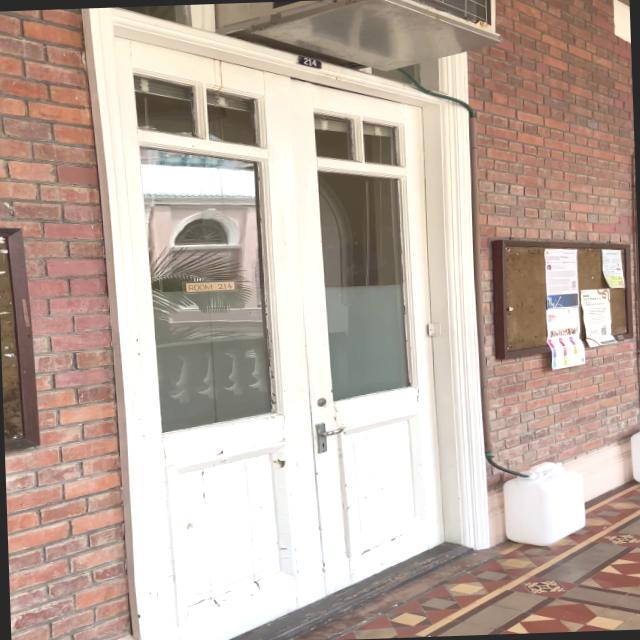room214: (295, 53, 324, 70)
room214Window: (182, 276, 242, 293)
